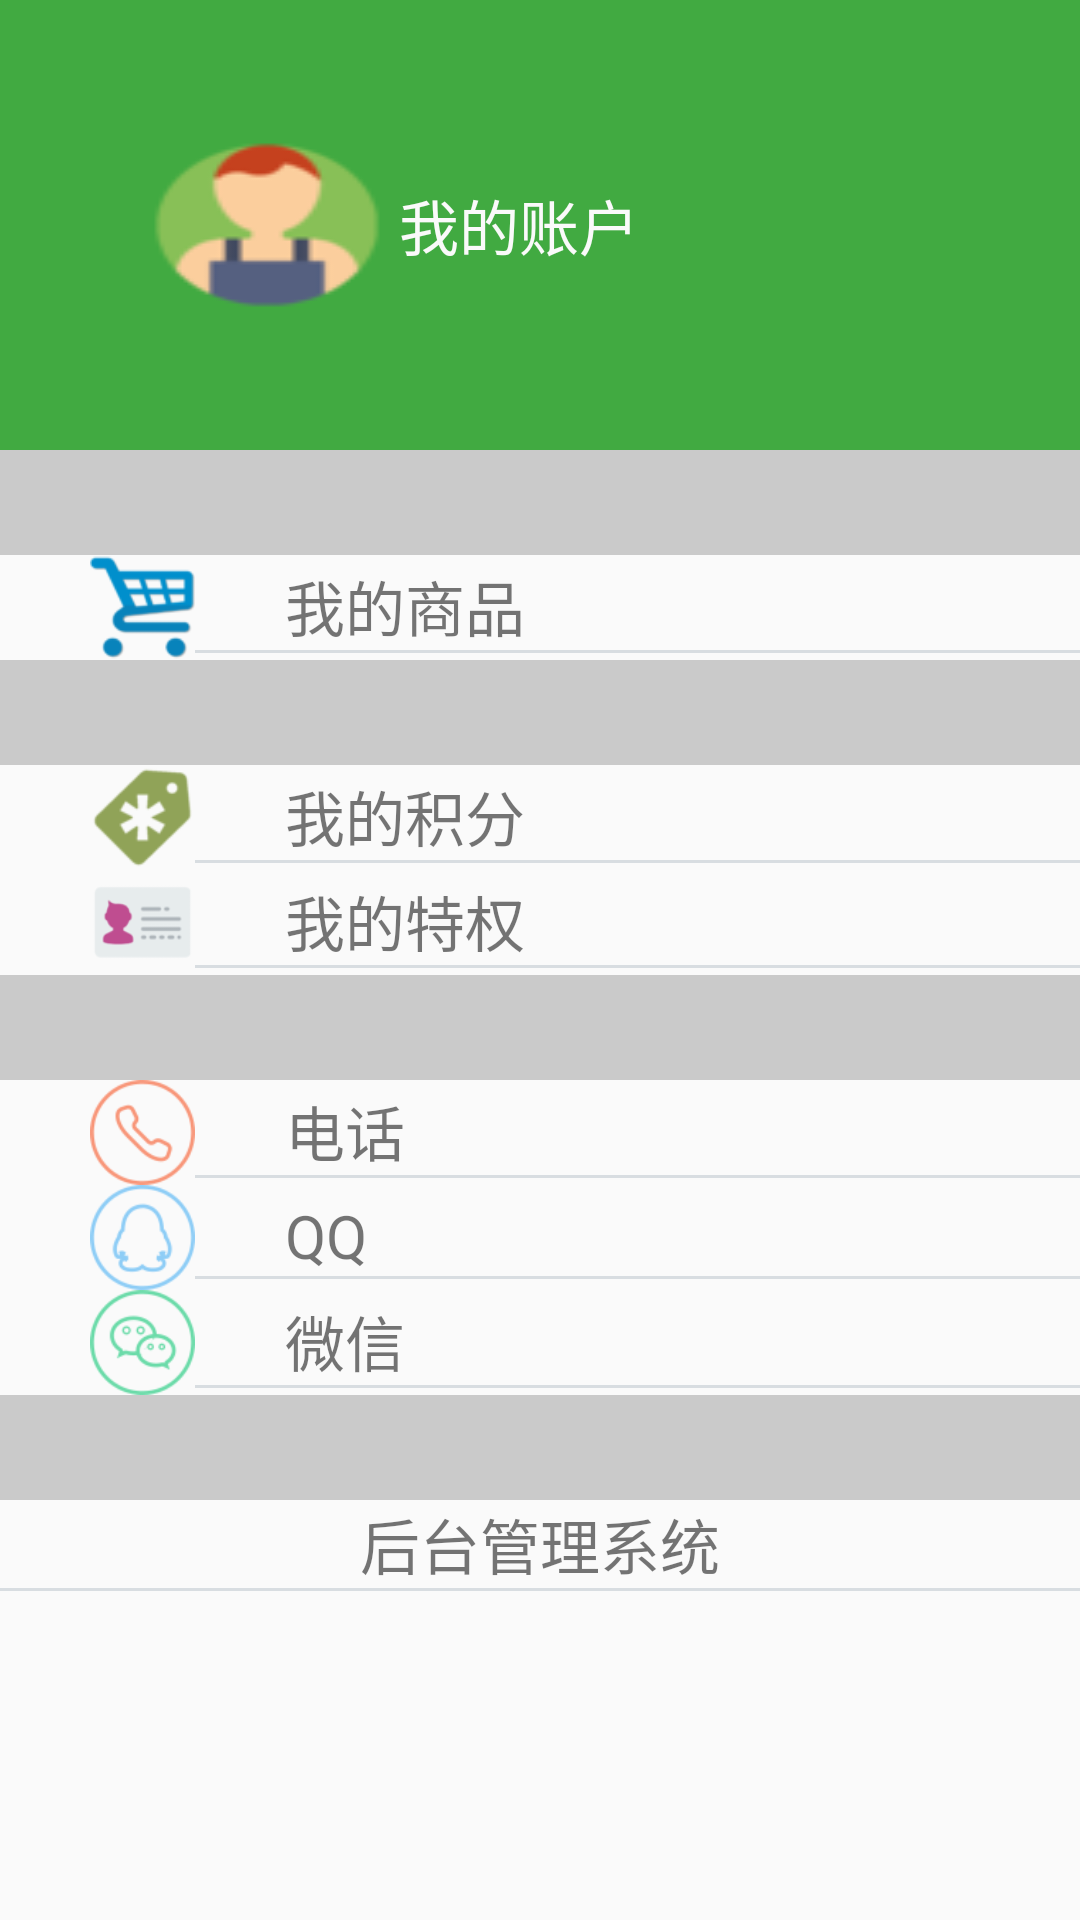

Screen size 1080*1920. Icon name, then its box in pixels as (x1, y1, x2, y2):
tel: (90, 1080, 195, 1185)
